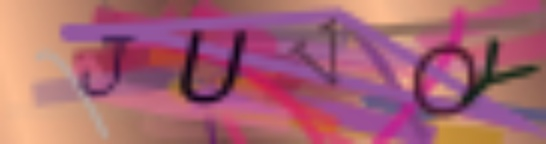J: (76, 31, 136, 101)
O: (412, 39, 476, 119)
U: (173, 26, 257, 107)
V: (290, 13, 352, 88)
Y: (464, 35, 540, 113)
